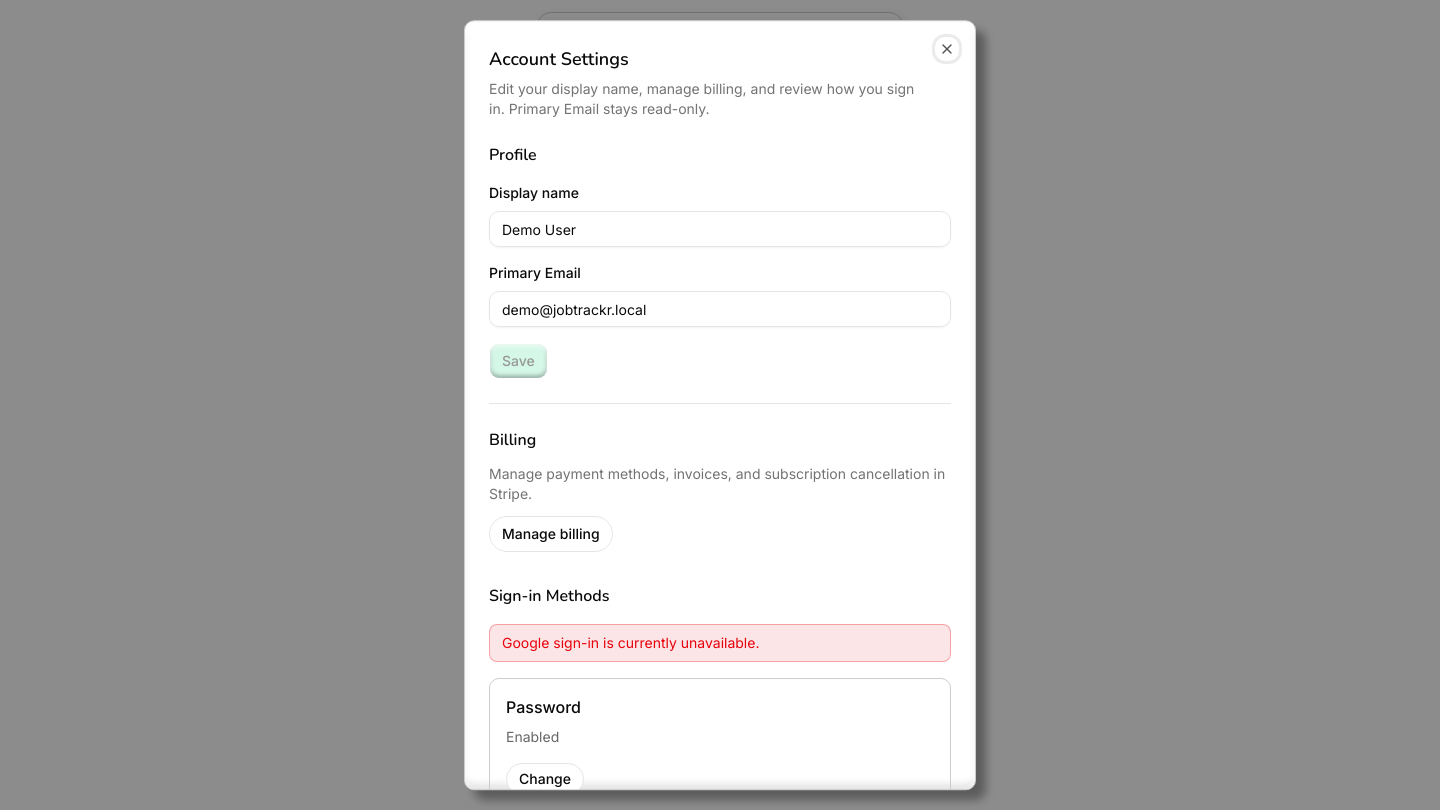
Test: Account Settings routed dialog › opens billing from Account Settings and shows a recoverable provider error
Click the button "Manage billing" at (551, 534), box [489, 516, 613, 552]
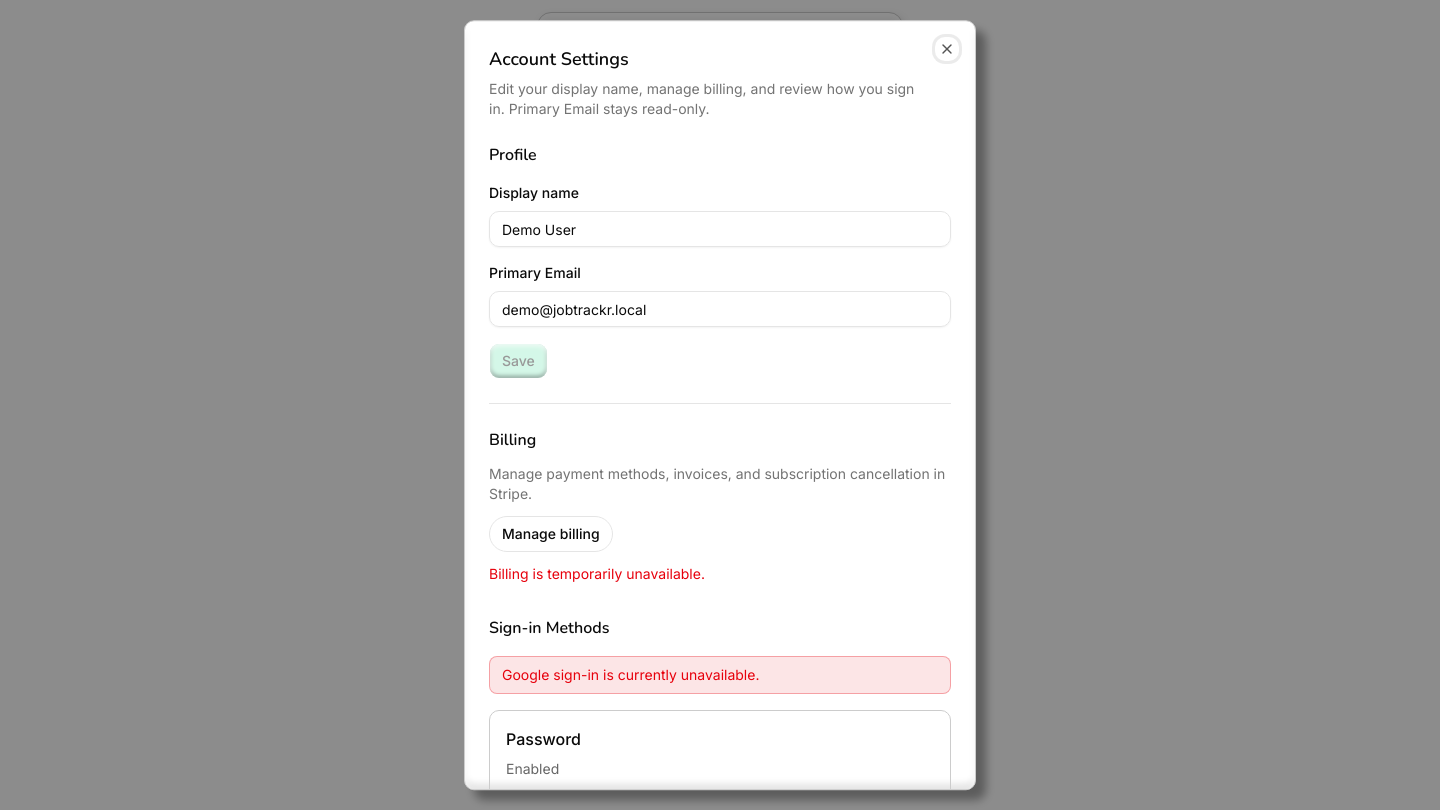
Now the message "Billing is temporarily unavailable." is shown, box [489, 565, 705, 582]
